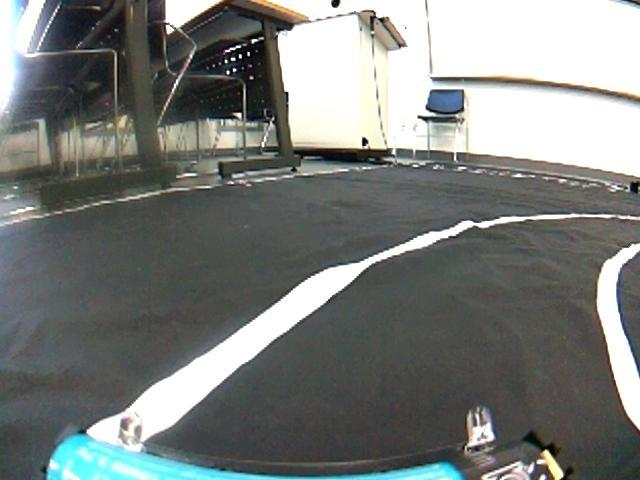right: (1, 235, 640, 476)
